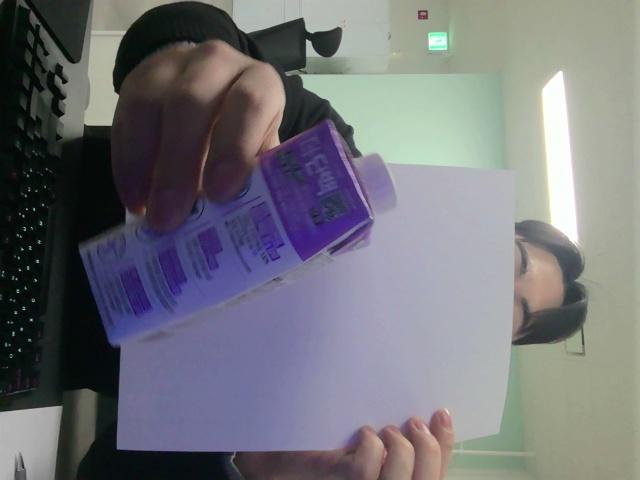milk: (80, 121, 394, 345)
